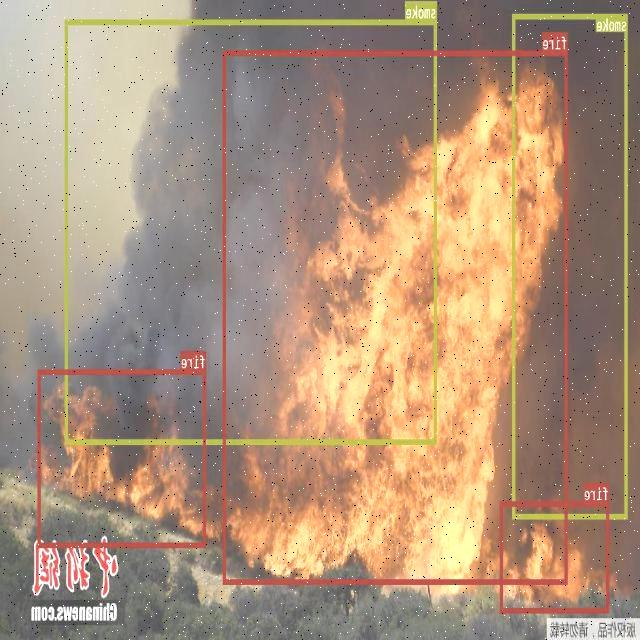fire: (224, 49, 568, 584), (38, 368, 206, 546), (500, 501, 610, 612)
smoke: (65, 19, 438, 444), (513, 14, 628, 518)
